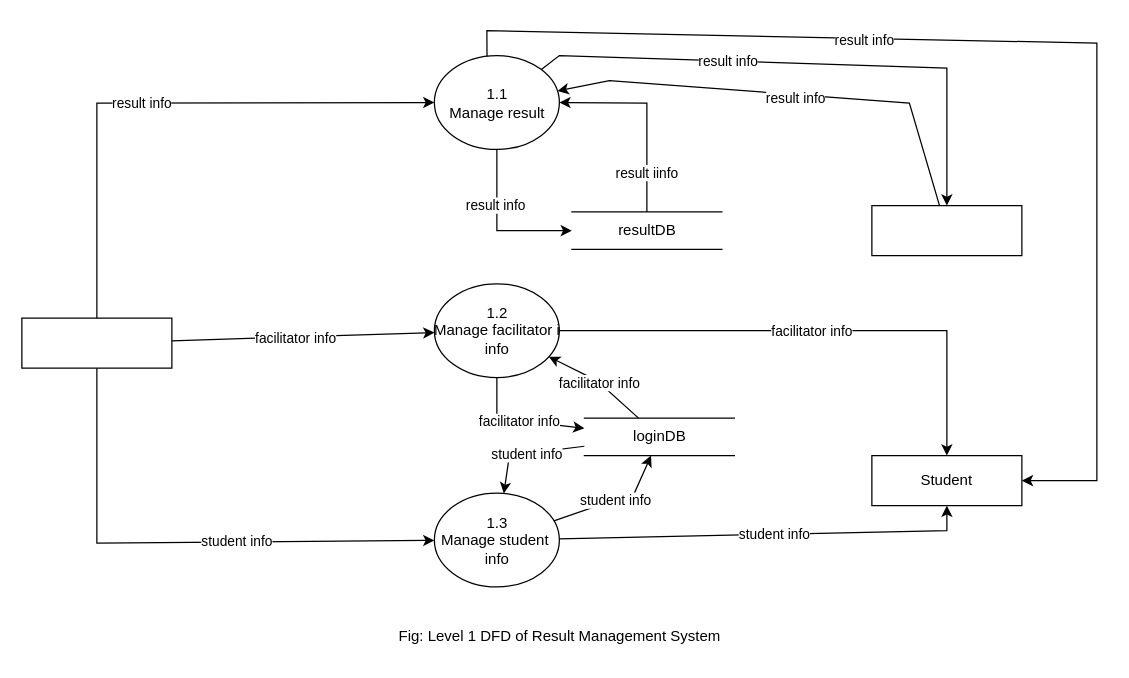
Some shapes in this 1129 by 678 pixel diagram are drawn without their labels. Here are the shapes that lost their labels. From the top down, the centre of each, then its label:
the point at 946,230: Facilitator
the point at 96,342: Admin
